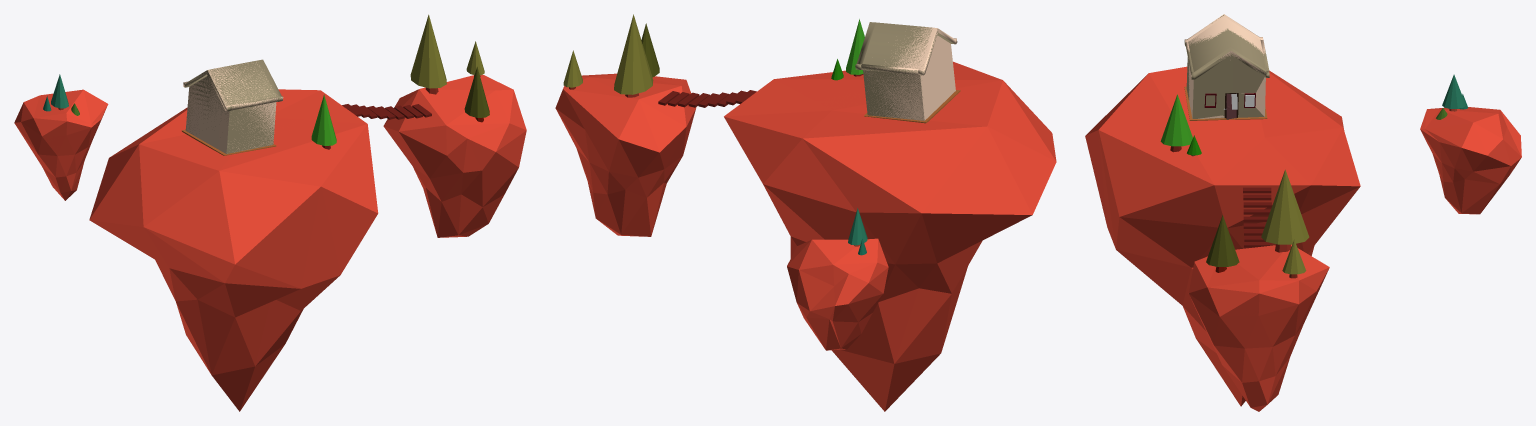
File: absurt_tema.fbx
The picture shows the model from 3 angles, left to right: view 1: azimuth 30°, elevation 25°; view 2: azimuth 150°, elevation 25°; view 3: azimuth 270°, elevation 25°; orthographic projection. The views are drawn at different scales.
Visible parts, largest first — view 1: Icosphere, Icosphere.001, Cube.014, Cube.006, Cone.001, Cube.008, Cone.002, Cone, Cone.009; view 2: Icosphere, Icosphere.001, Cube.014, Cube.006, Cone.001, Cube.008, Cone.009, Cone, Cone.002; view 3: Icosphere, Icosphere.001, Cube.014, Cone.001, Cube.006, Cube.008, Cone.002, Cone, Cone.009, Cone.003, Cone.013.
Part boxes in pixels (box(x1,y1,x2,y2)): Icosphere: box(14, 74, 526, 411); Icosphere.001: box(17, 76, 525, 409); Cube.014: box(183, 59, 282, 153); Cube.006: box(183, 62, 283, 153); Cone.001: box(410, 14, 446, 88); Cube.008: box(342, 104, 431, 119); Cone.002: box(464, 67, 489, 117); Cone: box(311, 94, 336, 145); Cone.009: box(411, 17, 445, 88); Icosphere: box(555, 61, 1056, 411); Icosphere.001: box(557, 62, 1055, 402); Cube.014: box(855, 22, 955, 119); Cube.006: box(862, 26, 957, 120); Cone.001: box(614, 14, 653, 94); Cube.008: box(658, 90, 756, 107); Cone.009: box(614, 15, 652, 94); Cone: box(846, 19, 864, 74); Cone.002: box(641, 23, 659, 77); Icosphere: box(1085, 66, 1521, 411); Icosphere.001: box(1085, 67, 1521, 410); Cube.014: box(1184, 15, 1269, 118); Cone.001: box(1261, 169, 1309, 244); Cube.006: box(1184, 14, 1265, 118); Cube.008: box(1243, 187, 1272, 247); Cone.002: box(1206, 215, 1239, 266); Cone: box(1160, 94, 1192, 146); Cone.009: box(1263, 170, 1307, 244); Cone.003: box(1282, 240, 1306, 274); Cone.013: box(1442, 75, 1465, 108).
Bounding box in the file's own units: 2099 × 1684 × 1790.
